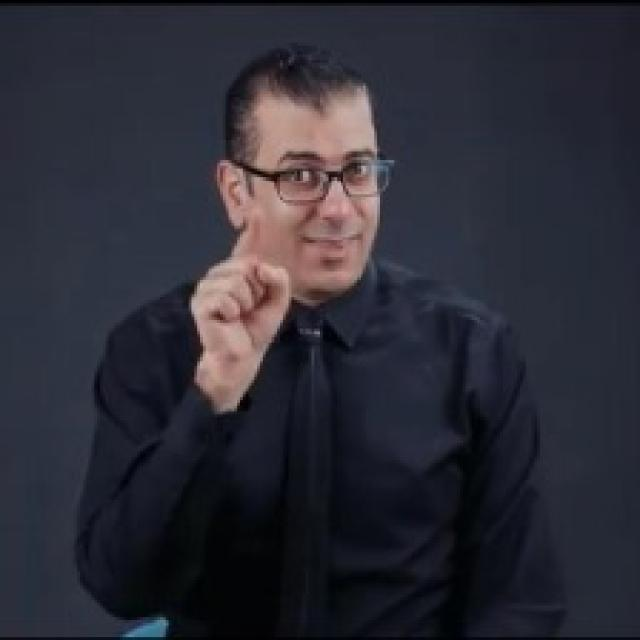you: (185, 203, 294, 370)
